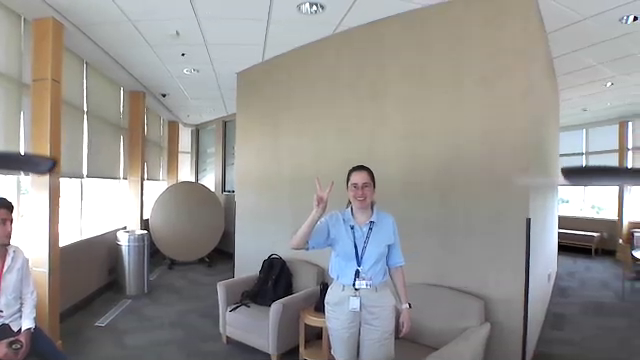peace: (305, 175, 338, 219)
